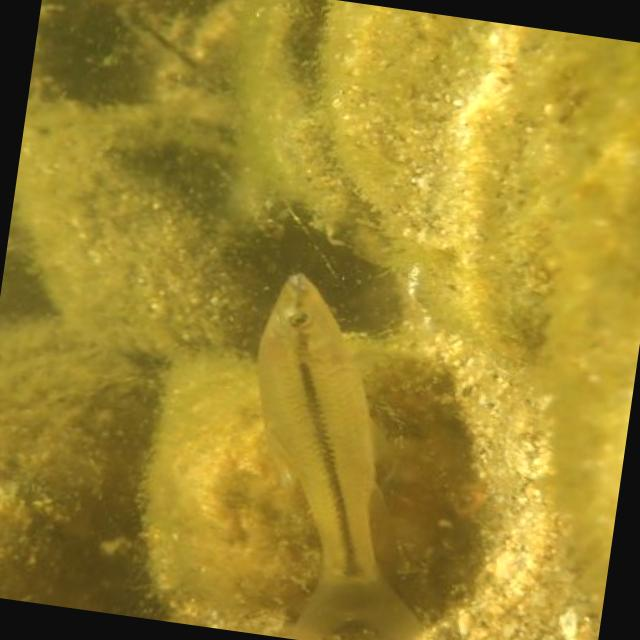Cakil Baligi: (216, 260, 472, 640)
